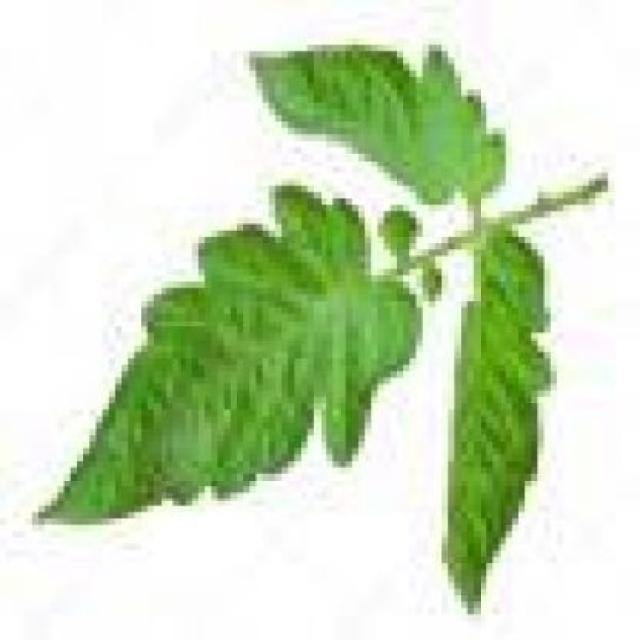Tomato leaf bacterial spot: (32, 178, 430, 557), (429, 217, 557, 634), (243, 45, 512, 218)
